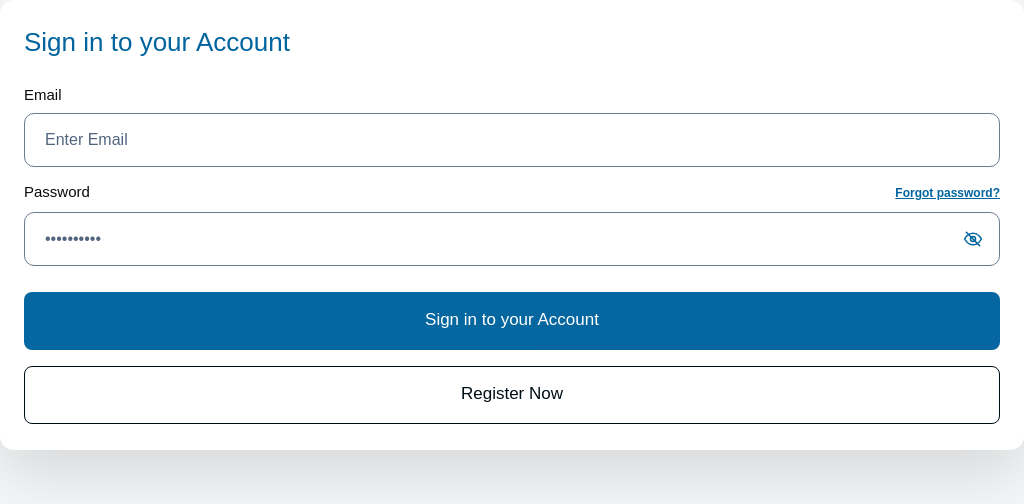
Test: HomeSignIn component › posts credentials and opens the mock verification form
Step 1. Type "borrower@example.com" into the field labelled "Email" → (512, 140), box left=24, top=113, right=1000, bottom=167
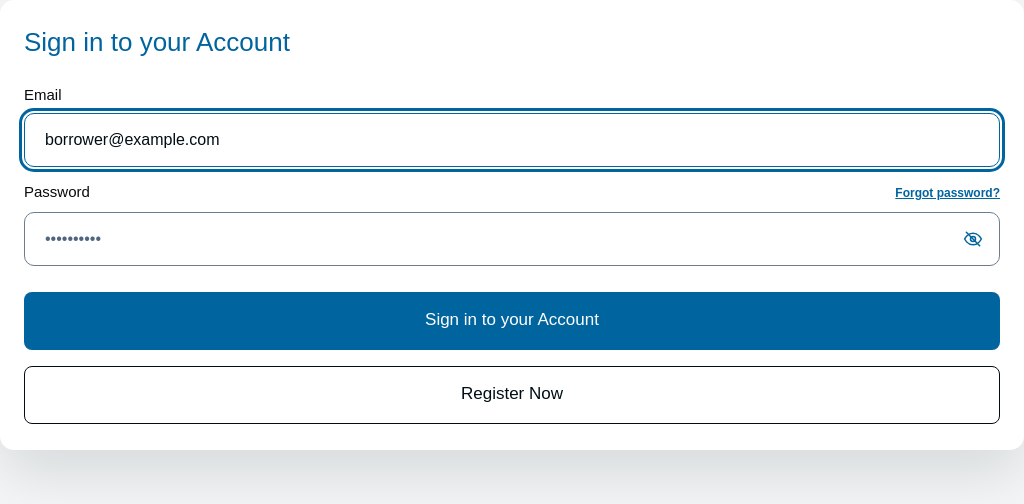
Step 2. Type "BorrowerPassword123!" into the password field labelled "Password" → (512, 239), box left=24, top=212, right=1000, bottom=266
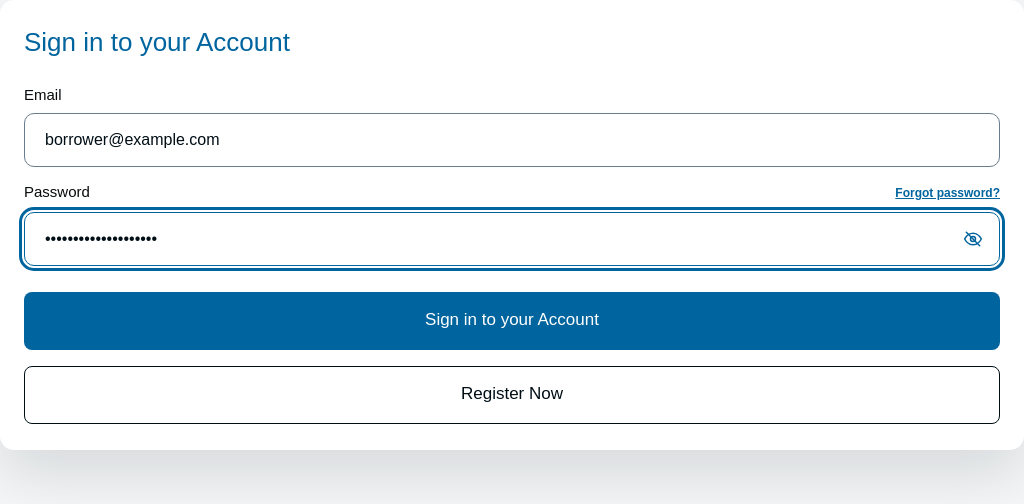
Step 3. Click the button "Sign in to your Account" → click(512, 321), box left=24, top=292, right=1000, bottom=350
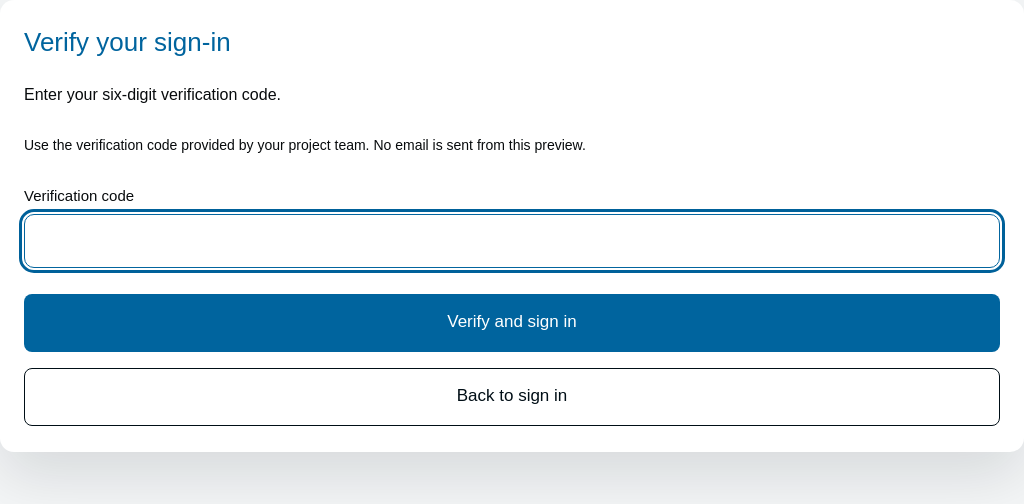
Check: the text "Use the verification code provided by your project team" is shown, box left=24, top=137, right=586, bottom=153
